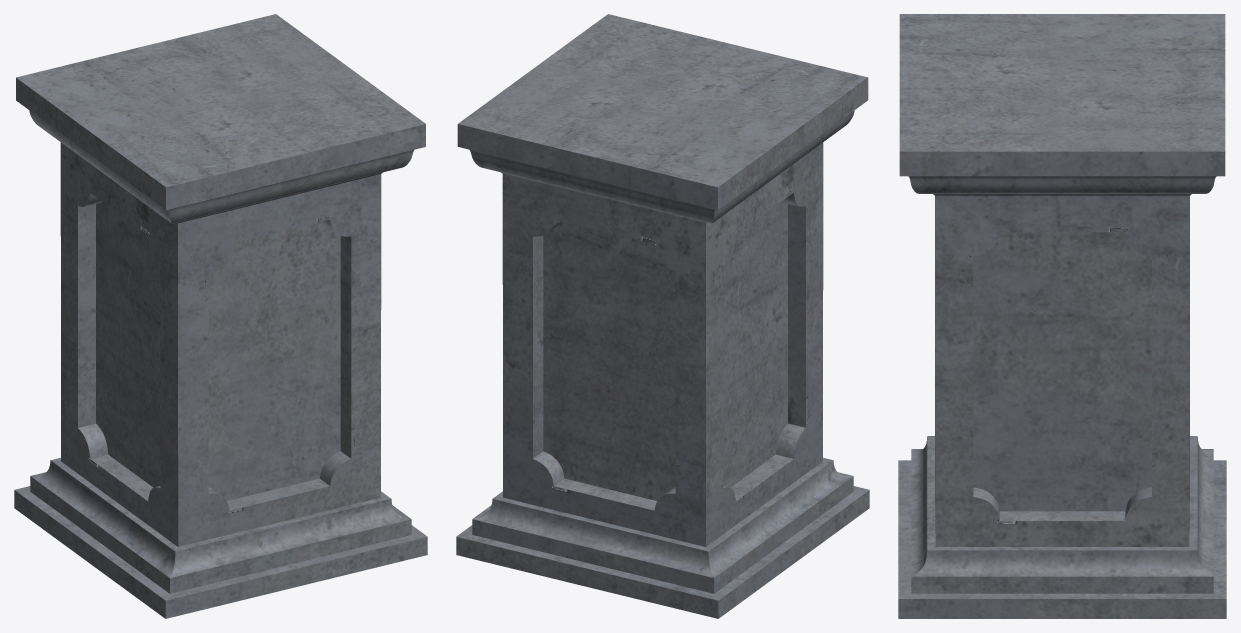
The model's file is PiediStallo.fbx.
3 renders of one model, left to right at view 1: azimuth 30°, elevation 25°; view 2: azimuth 150°, elevation 25°; view 3: azimuth 270°, elevation 25°, orthographic. The views are drawn at different scales.
Parts seen in each view (by area): view 1: 10421_square_pedastal_iterations-2; view 2: 10421_square_pedastal_iterations-2; view 3: 10421_square_pedastal_iterations-2.
Boxes of the visible parts, box(x1,y1,x2,y2) form: 10421_square_pedastal_iterations-2: box(14, 14, 427, 618); 10421_square_pedastal_iterations-2: box(456, 14, 869, 618); 10421_square_pedastal_iterations-2: box(898, 14, 1226, 618).
Bounding box in the file's own units: 5326 × 8363 × 5325.
1 material, 1 textured.
